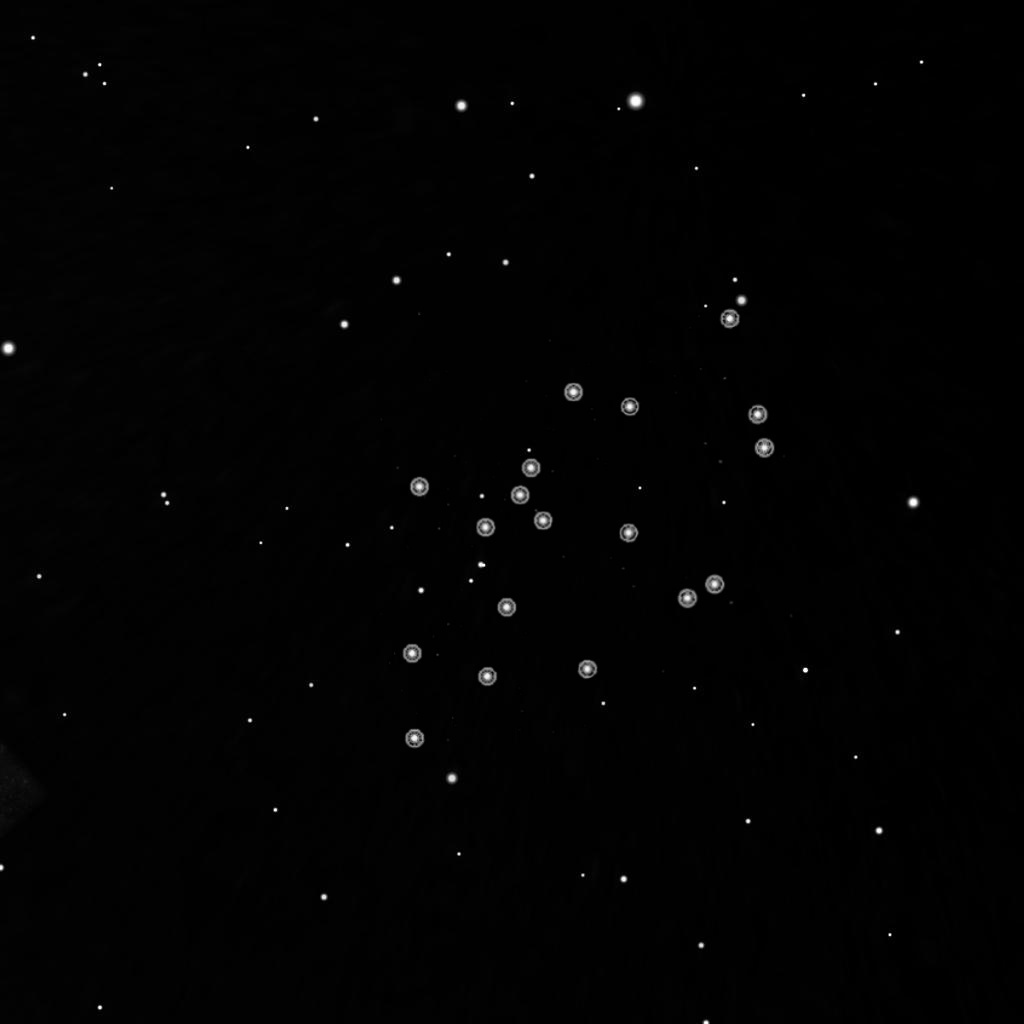canis_major: (471, 379, 643, 542)
